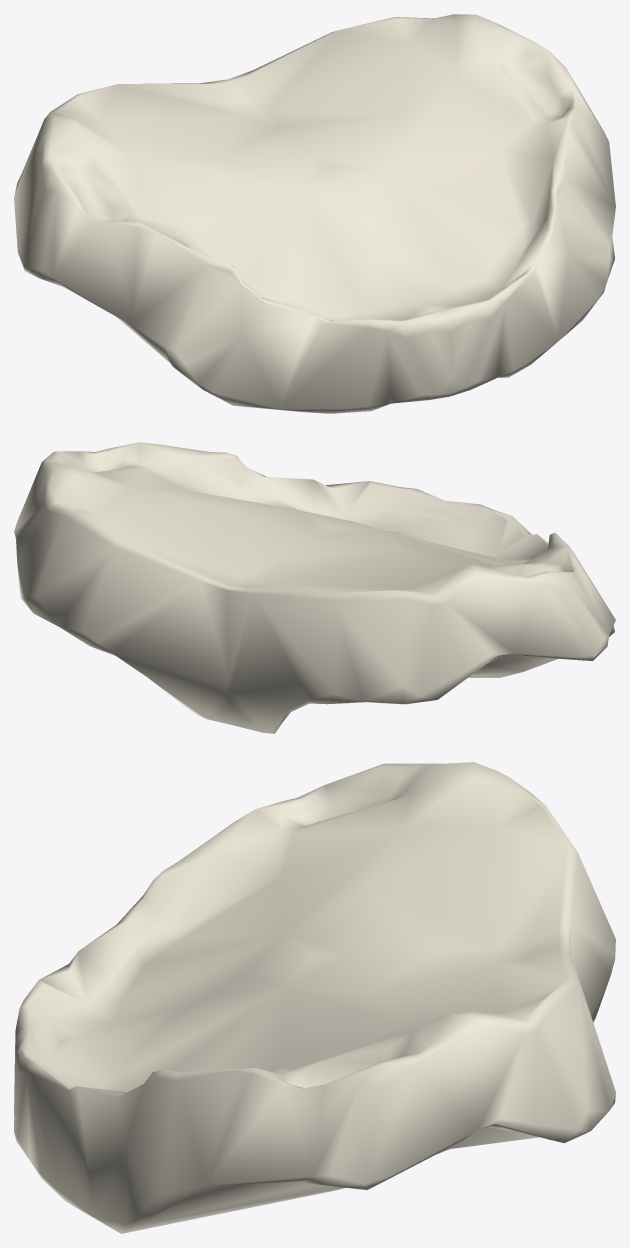
3 renders of one model, top to bottom at view 1: azimuth 30°, elevation 25°; view 2: azimuth 150°, elevation 25°; view 3: azimuth 270°, elevation 25°, orthographic. The views are drawn at different scales.
Visible parts, largest first — view 1: ZA_80881b125c5f6a42; view 2: ZA_80881b125c5f6a42; view 3: ZA_80881b125c5f6a42.
Boxes of the visible parts, left/top/right/bottom form: ZA_80881b125c5f6a42: left=14, top=14, right=615, bottom=413; ZA_80881b125c5f6a42: left=14, top=442, right=615, bottom=733; ZA_80881b125c5f6a42: left=14, top=762, right=615, bottom=1233.
Bounding box in the file's own units: 0.0239 × 0.0081 × 0.0176.
